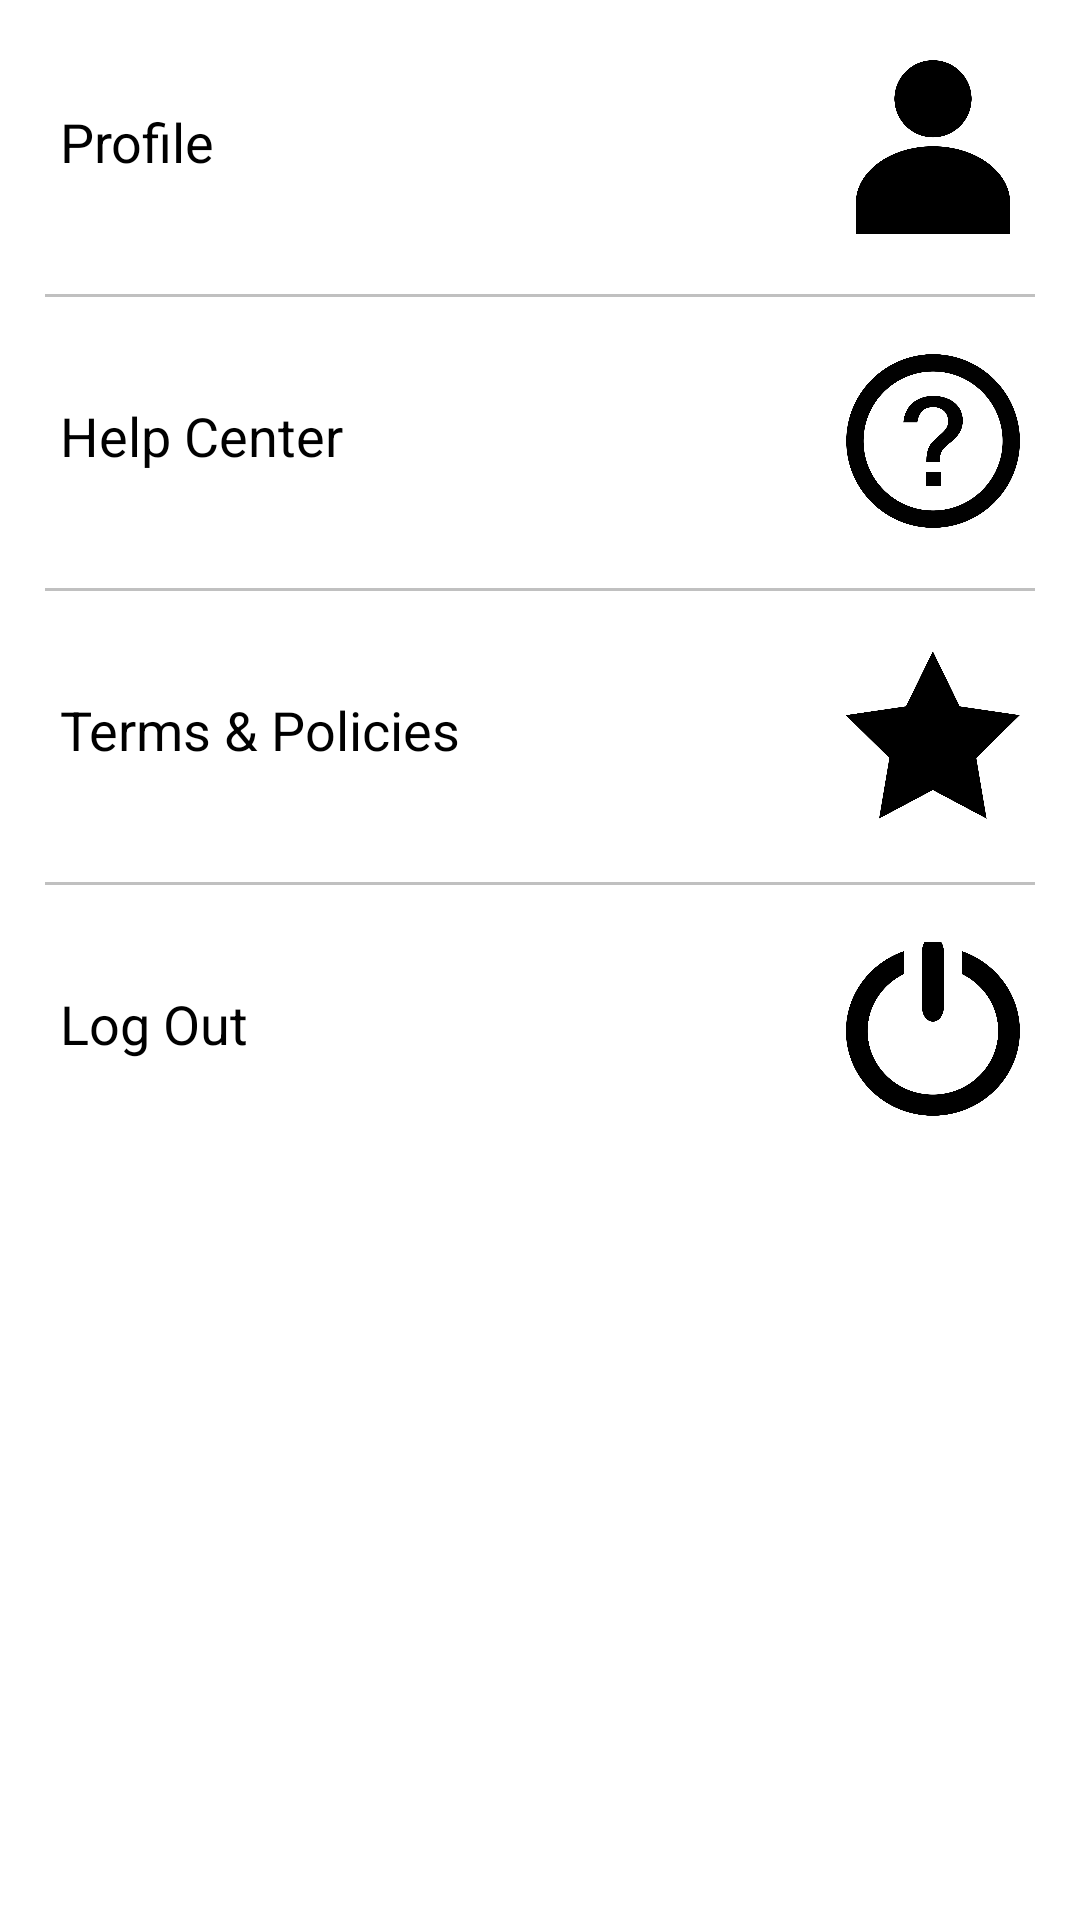

Icon bounding boxes for this 1080 x 1920 phone screenshot, format (x1, y1, x2, y2):
person: (856, 60, 1010, 234)
power: (846, 942, 1020, 1116)
question mark: (846, 354, 1020, 528)
star: (846, 652, 1020, 819)
